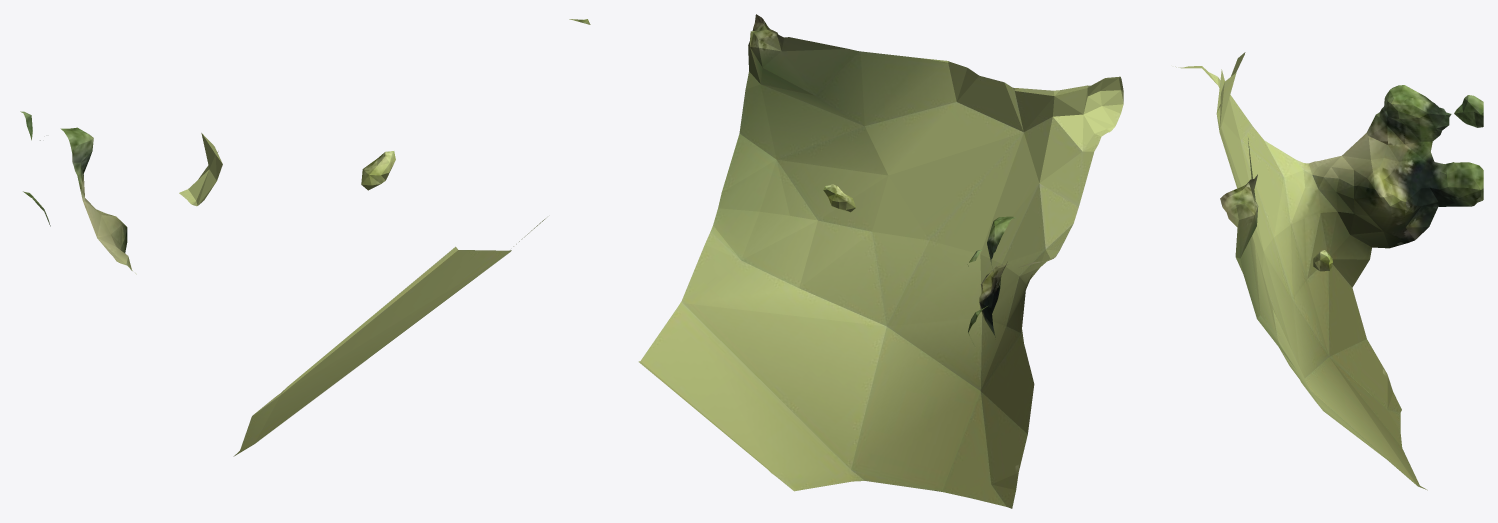
3 views of the same model, side by side, from view 1: azimuth 30°, elevation 25°; view 2: azimuth 150°, elevation 25°; view 3: azimuth 270°, elevation 25° (orthographic). The views are drawn at different scales.
Bounding box in the file's own units: 26.11 × 26.11 × 19.83.
Materials: 3 (3 with a texture image).
